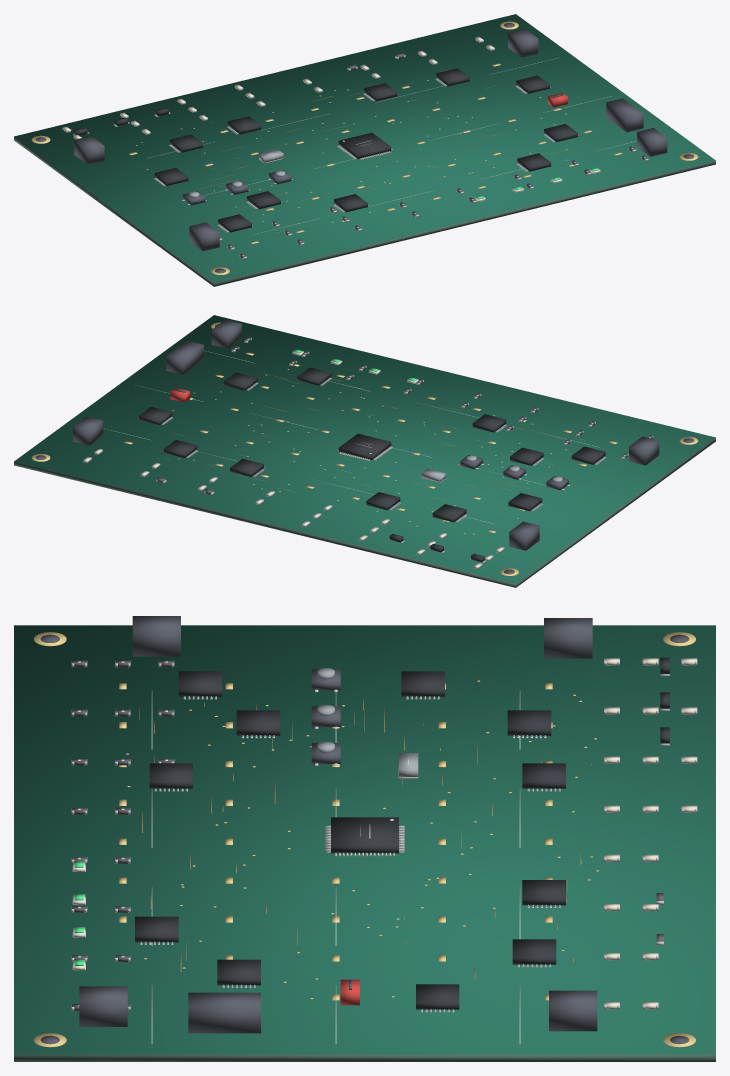
File: L100_COMPLETED_BOARD_REFERENCE_ONLY.fbx
The picture shows the model from 3 angles, top to bottom: view 1: azimuth 30°, elevation 25°; view 2: azimuth 150°, elevation 25°; view 3: azimuth 270°, elevation 25°; orthographic projection. The views are drawn at different scales.
Visible parts, largest first — view 1: Model::Part_763, Model::Part_762, Model::Part_678, Model::Part_000, Model::Part_691, Model::Part_660, Model::Part_669, Model::Part_700; view 2: Model::Part_763, Model::Part_762, Model::Part_678, Model::Part_000, Model::Part_691, Model::Part_660, Model::Part_669, Model::Part_700; view 3: Model::Part_763, Model::Part_762, Model::Part_678, Model::Part_000, Model::Part_669, Model::Part_660, Model::Part_691, Model::Part_700, Model::Part_342, Model::Part_377, Model::Part_272, Model::Part_132 (+7 smaller).
Boxes of the visible parts, left/top/right/bottom form: Model::Part_763: left=14, top=14, right=715, bottom=282; Model::Part_762: left=14, top=14, right=715, bottom=286; Model::Part_678: left=606, top=98, right=643, bottom=132; Model::Part_000: left=338, top=132, right=391, bottom=158; Model::Part_691: left=189, top=222, right=219, bottom=251; Model::Part_660: left=74, top=136, right=104, bottom=164; Model::Part_669: left=508, top=28, right=538, bottom=57; Model::Part_700: left=637, top=128, right=667, bottom=156; Model::Part_763: left=14, top=315, right=715, bottom=583; Model::Part_762: left=14, top=315, right=715, bottom=587; Model::Part_678: left=166, top=340, right=203, bottom=374; Model::Part_000: left=338, top=433, right=391, bottom=459; Model::Part_691: left=629, top=436, right=659, bottom=465; Model::Part_660: left=509, top=521, right=539, bottom=550; Model::Part_669: left=73, top=416, right=103, bottom=445; Model::Part_700: left=211, top=319, right=241, bottom=348; Model::Part_763: left=14, top=625, right=715, bottom=1054; Model::Part_762: left=14, top=625, right=715, bottom=1061; Model::Part_678: left=188, top=992, right=260, bottom=1033; Model::Part_000: left=331, top=817, right=398, bottom=853; Model::Part_669: left=549, top=990, right=597, bottom=1031; Model::Part_660: left=544, top=618, right=592, bottom=658; Model::Part_691: left=132, top=616, right=180, bottom=656; Model::Part_700: left=79, top=986, right=127, bottom=1026; Model::Part_342: left=217, top=959, right=260, bottom=985; Model::Part_377: left=135, top=916, right=178, bottom=942; Model::Part_272: left=512, top=939, right=556, bottom=964; Model::Part_132: left=507, top=710, right=551, bottom=735.
Size of the model in its own units: 21 by 0.81 by 14.5.
